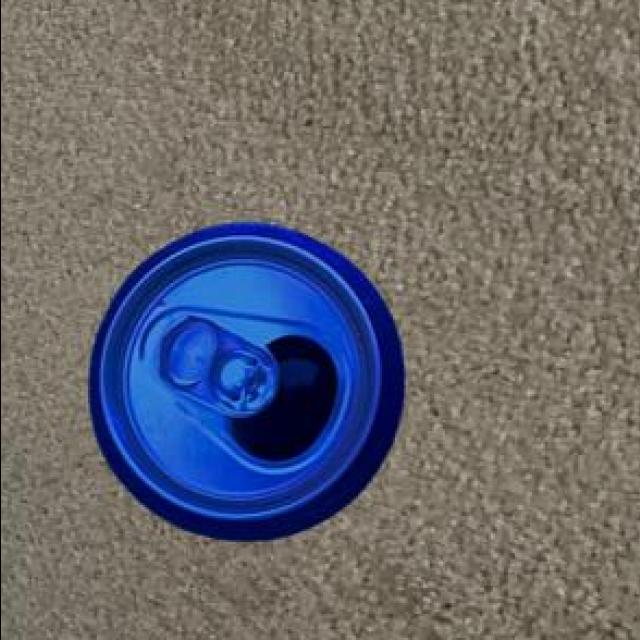logam: (86, 230, 399, 543)
